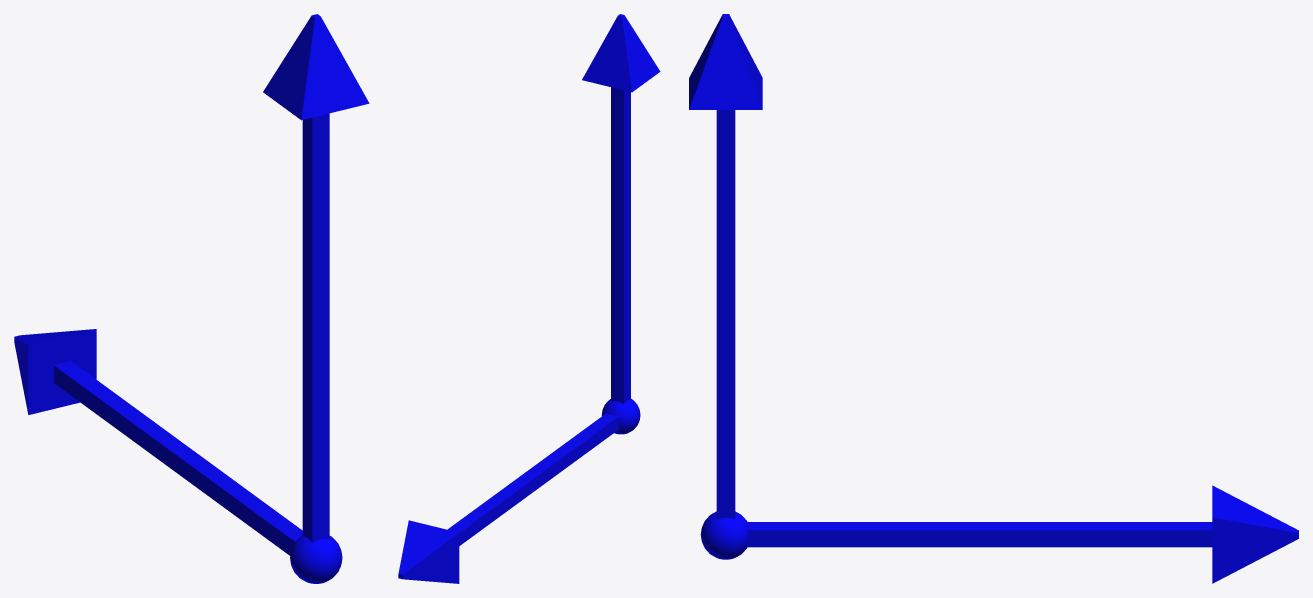
The model's file is moving arrows.FBX.
3 views of the same model, side by side, from view 1: azimuth 30°, elevation 25°; view 2: azimuth 150°, elevation 25°; view 3: azimuth 270°, elevation 25° (orthographic). The views are drawn at different scales.
Parts seen in each view (by area): view 1: arrow_002, arrow_1; view 2: arrow_002, arrow_1; view 3: arrow_1, arrow_002.
Part boxes in pixels (box(x1,y1,x2,y2)): arrow_002: box(263, 14, 369, 542); arrow_1: box(14, 329, 342, 583); arrow_002: box(582, 14, 660, 404); arrow_1: box(398, 399, 640, 583); arrow_1: box(700, 485, 1298, 583); arrow_002: box(689, 14, 762, 519).
Size of the model in its own units: 8.45 by 68.11 by 68.11.
